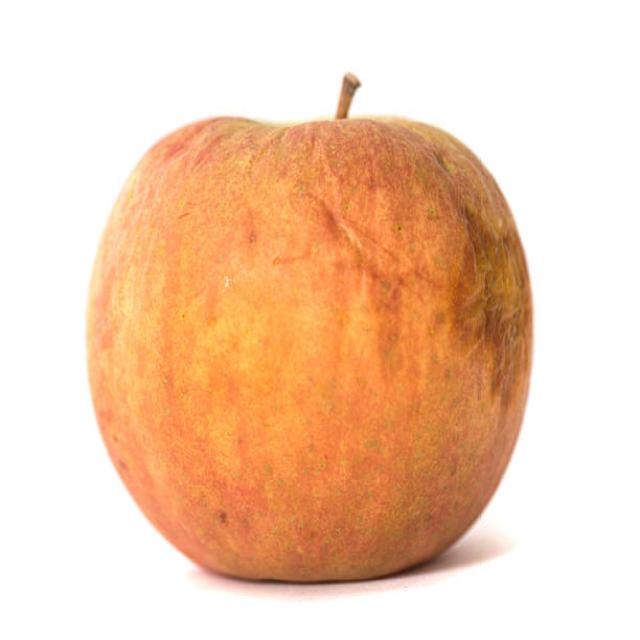overripe: (81, 105, 535, 590)
